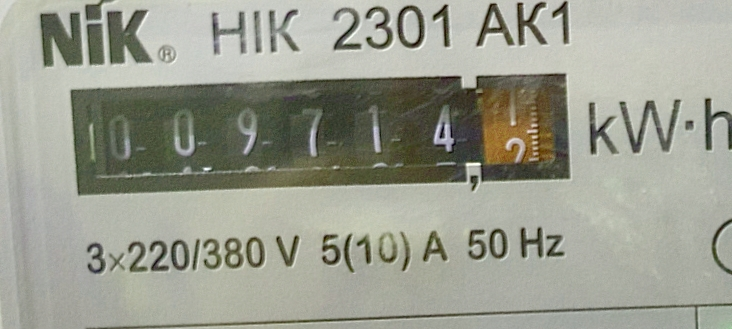0: (105, 110, 136, 165), (170, 105, 198, 159)
1: (363, 100, 388, 156), (504, 86, 520, 129)
2: (503, 134, 528, 165)
4: (428, 101, 459, 156)
7: (299, 105, 327, 160)
9: (232, 105, 262, 158)
screen: (55, 54, 588, 217)
